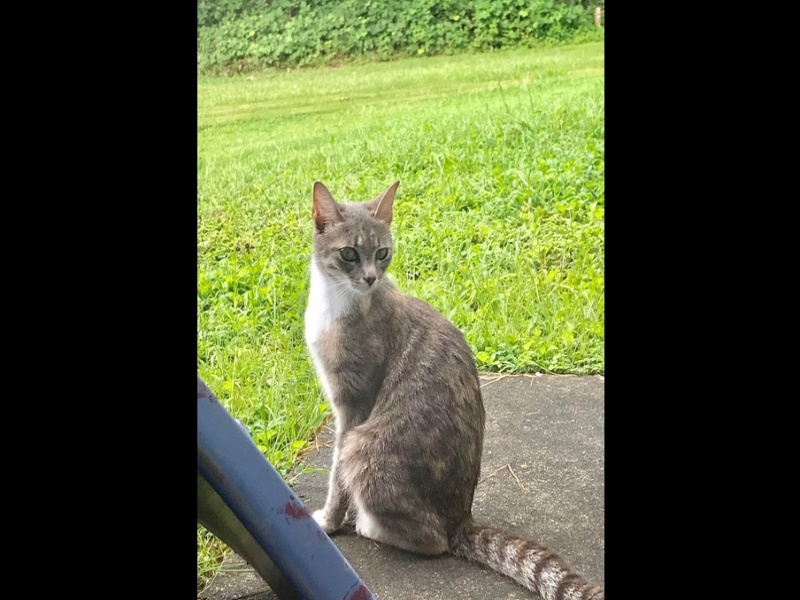cat: (296, 180, 600, 599)
